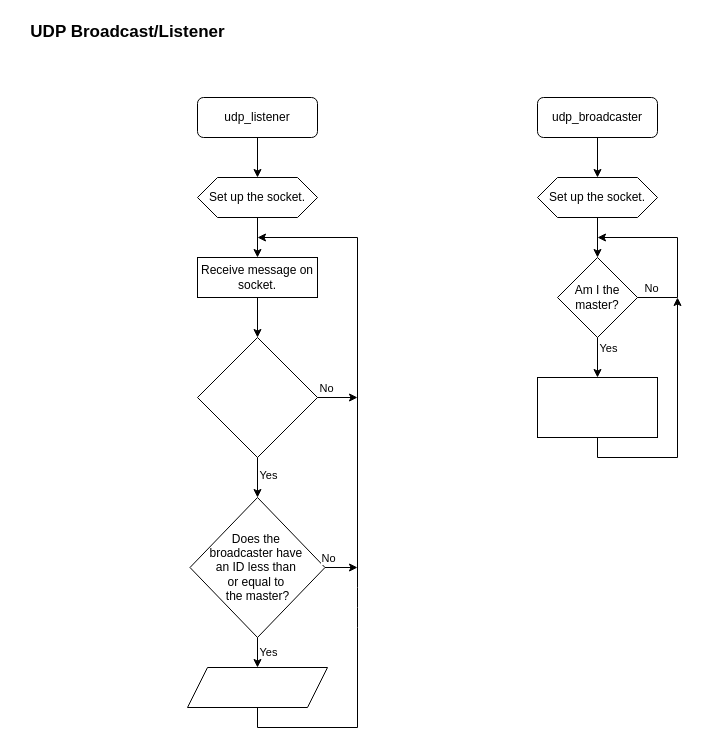
Some shapes in this 703 by 753 pixel diagram are drawn without their labels. Here are the shapes that lost their labels. From the top down, the box of each, then its label:
(196, 336, 318, 458): Match key: Is the broadcast from 'us'?
(536, 376, 658, 438): Send broadcast: key + WorldView.
(186, 666, 328, 708): Send recieved WV to update_wv
